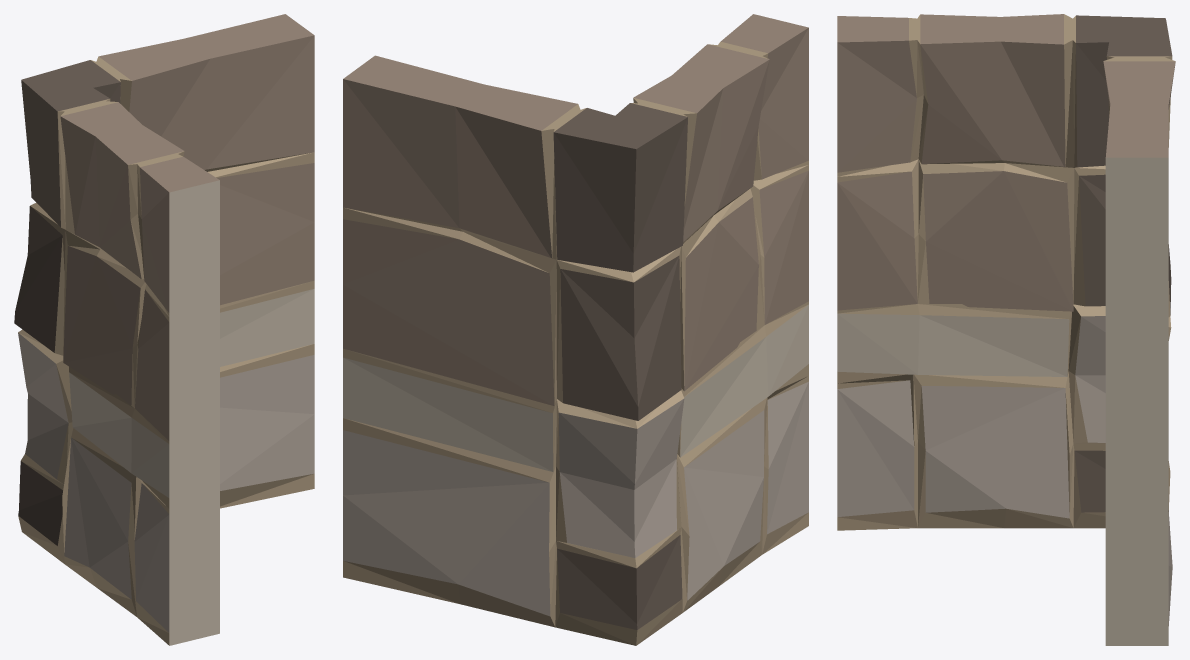
File: RG-Dungeon_Corner-wall-03.fbx
The picture shows the model from 3 angles, left to right: view 1: azimuth 30°, elevation 25°; view 2: azimuth 150°, elevation 25°; view 3: azimuth 270°, elevation 25°; orthographic projection. The views are drawn at different scales.
Visible parts, largest first — view 1: RG-Dungeon_Corner-wall-03; view 2: RG-Dungeon_Corner-wall-03; view 3: RG-Dungeon_Corner-wall-03.
Part boxes in pixels (<box>): RG-Dungeon_Corner-wall-03: <box>14,14,314,645</box>; RG-Dungeon_Corner-wall-03: <box>343,14,808,645</box>; RG-Dungeon_Corner-wall-03: <box>837,14,1175,645</box>.
Size of the model in its own units: 10.14 by 16.05 by 10.09.
